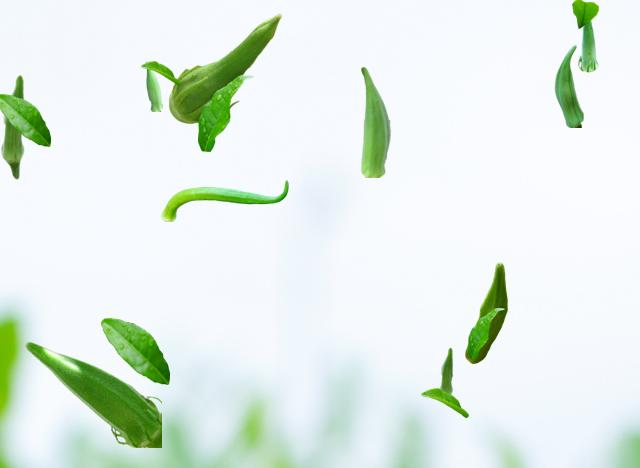okra: (24, 341, 160, 446), (168, 13, 281, 123), (161, 180, 287, 220), (465, 262, 506, 362), (360, 66, 390, 176), (0, 74, 24, 179), (554, 44, 582, 126), (578, 21, 597, 71), (145, 61, 161, 110), (439, 347, 452, 394)
